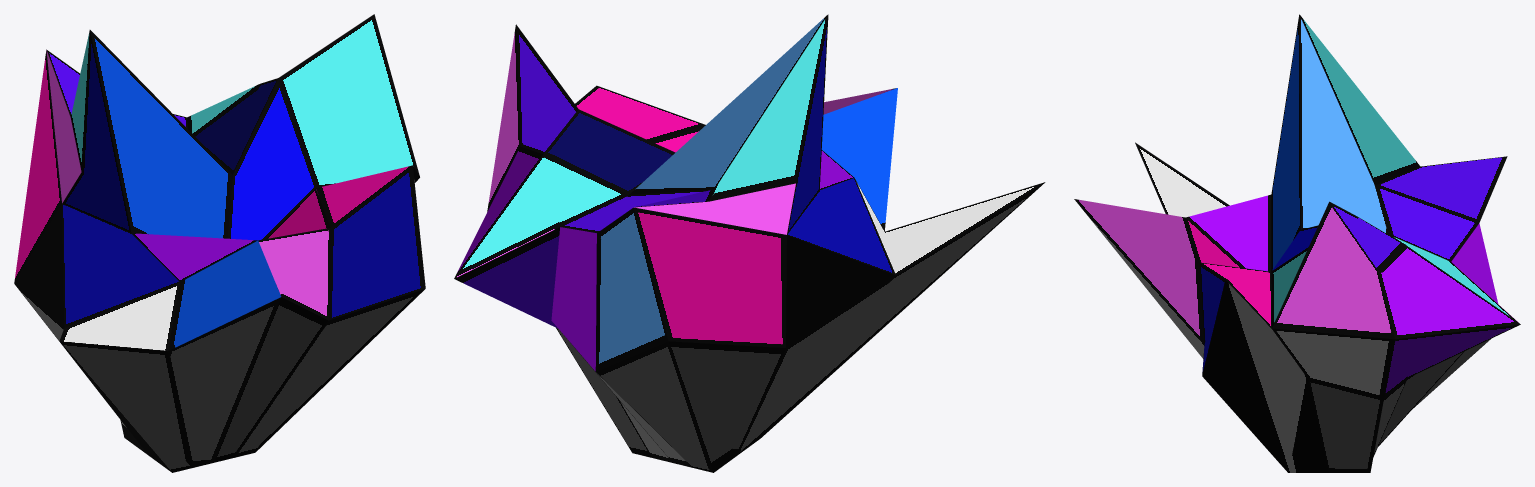
File: treasure.glb
3 views of the same model, side by side, from view 1: azimuth 30°, elevation 25°; view 2: azimuth 150°, elevation 25°; view 3: azimuth 270°, elevation 25° (orthographic). The views are drawn at different scales.
Parts seen in each view (by area): view 1: Cube; view 2: Cube; view 3: Cube.
Boxes of the visible parts, x1,y1,x2,y2 form: Cube: [14, 14, 425, 472]; Cube: [454, 14, 1045, 472]; Cube: [1074, 14, 1520, 472].
Size of the model in its own units: 0.2388 by 0.2369 by 0.2445.
Materials: 1 (1 with a texture image).
